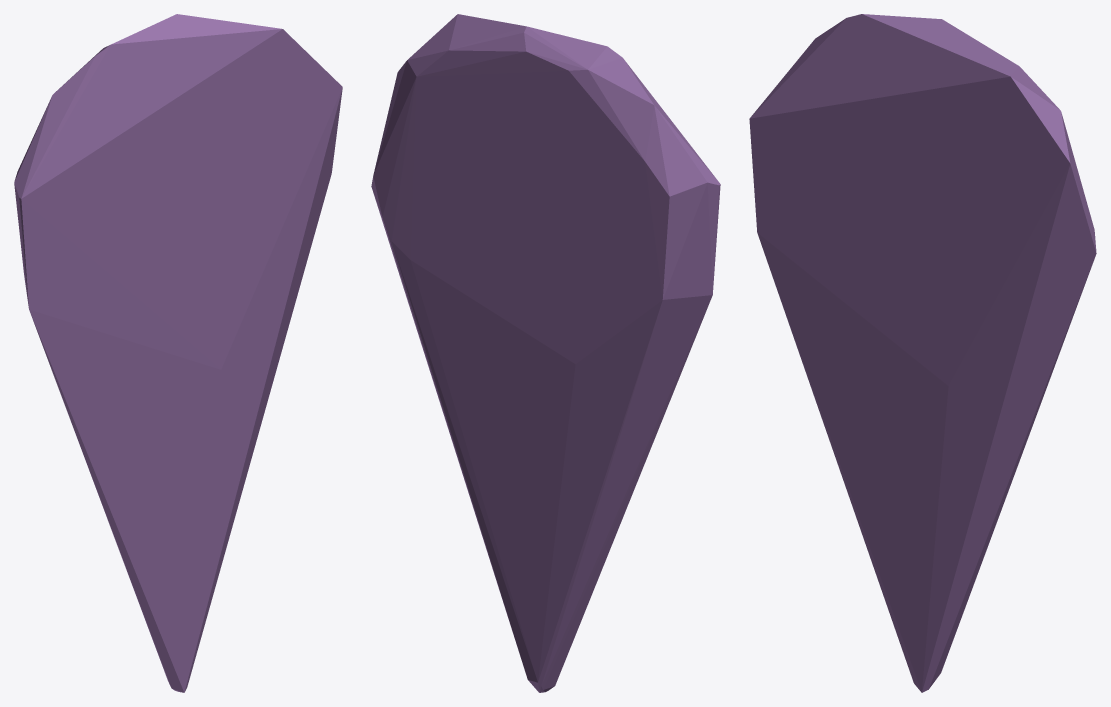
File: kitchenware_pan_h01.glb
3 views of the same model, side by side, from view 1: azimuth 30°, elevation 25°; view 2: azimuth 150°, elevation 25°; view 3: azimuth 330°, elevation 25° (orthographic).
Visible parts, largest first — view 1: geometry_0; view 2: geometry_0; view 3: geometry_0.
Part boxes in pixels (bbox=[...]): geometry_0: bbox=[14, 14, 342, 692]; geometry_0: bbox=[371, 14, 720, 692]; geometry_0: bbox=[749, 14, 1096, 692].
Size of the model in its own units: 0.245 by 0.4745 by 0.0355.
